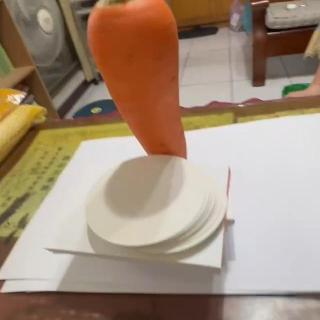carrot: (85, 0, 188, 162)
